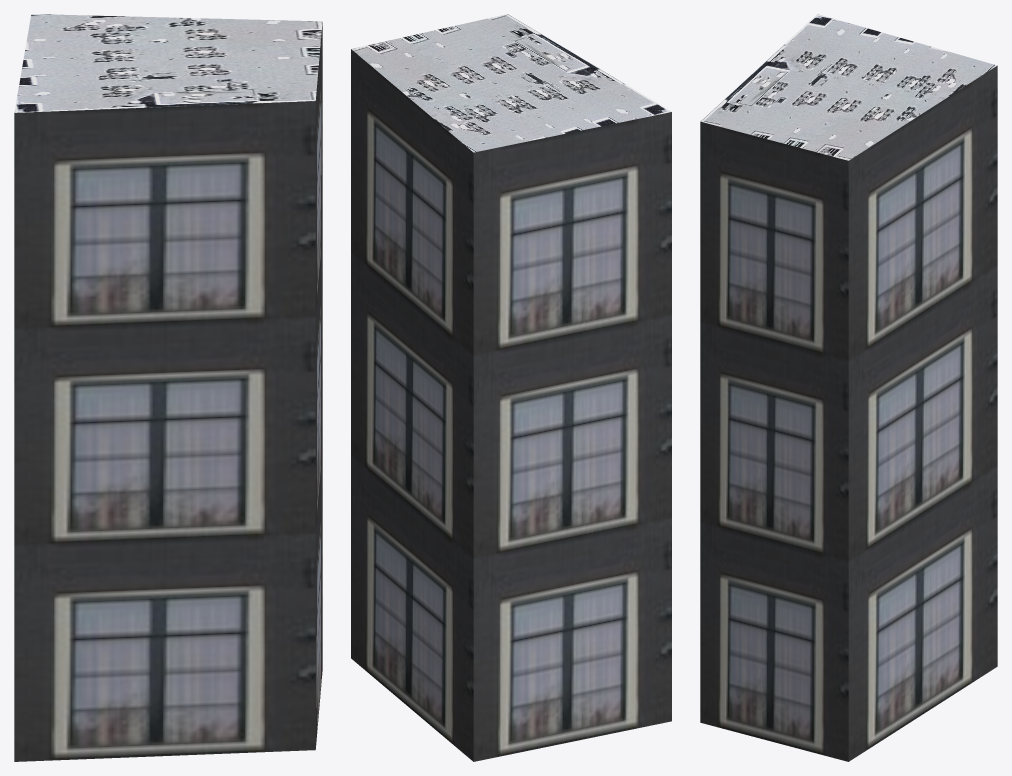
File: ResTex__3871.fbx
3 renders of one model, left to right at view 1: azimuth 30°, elevation 25°; view 2: azimuth 150°, elevation 25°; view 3: azimuth 270°, elevation 25°, orthographic. The views are drawn at different scales.
Visible parts, largest first — view 1: CityEngineMaterial_22_m, CityEngineMaterial_2_m; view 2: CityEngineMaterial_22_m, CityEngineMaterial_2_m; view 3: CityEngineMaterial_22_m, CityEngineMaterial_2_m.
Boxes of the visible parts, x1=… form: CityEngineMaterial_22_m: x1=14, y1=23, x2=322, y2=761; CityEngineMaterial_2_m: x1=14, y1=14, x2=322, y2=112; CityEngineMaterial_22_m: x1=351, y1=49, x2=671, y2=761; CityEngineMaterial_2_m: x1=351, y1=14, x2=671, y2=152; CityEngineMaterial_22_m: x1=700, y1=65, x2=997, y2=761; CityEngineMaterial_2_m: x1=701, y1=14, x2=996, y2=160.
Size of the model in its own units: 4.72 by 9 by 4.03.
2 materials, 2 textured.
